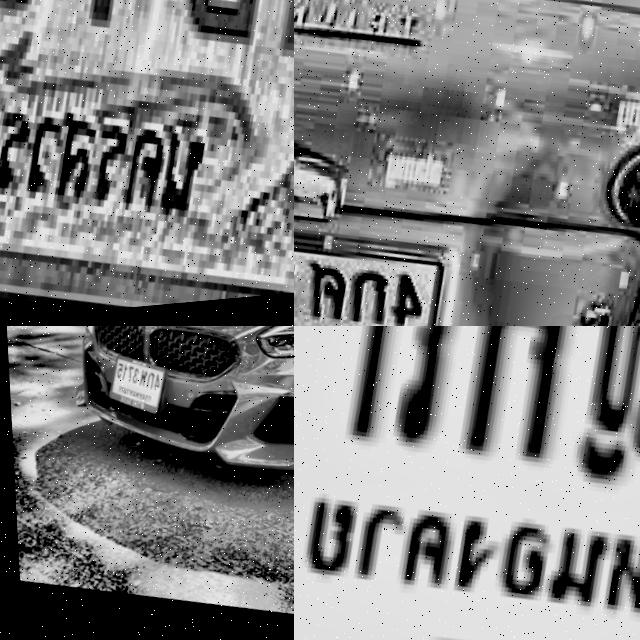license-plate: (294, 326, 640, 640), (0, 0, 294, 326), (294, 193, 448, 326), (96, 351, 166, 423)
